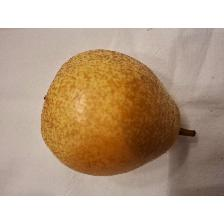Birne: (40, 48, 196, 176)
